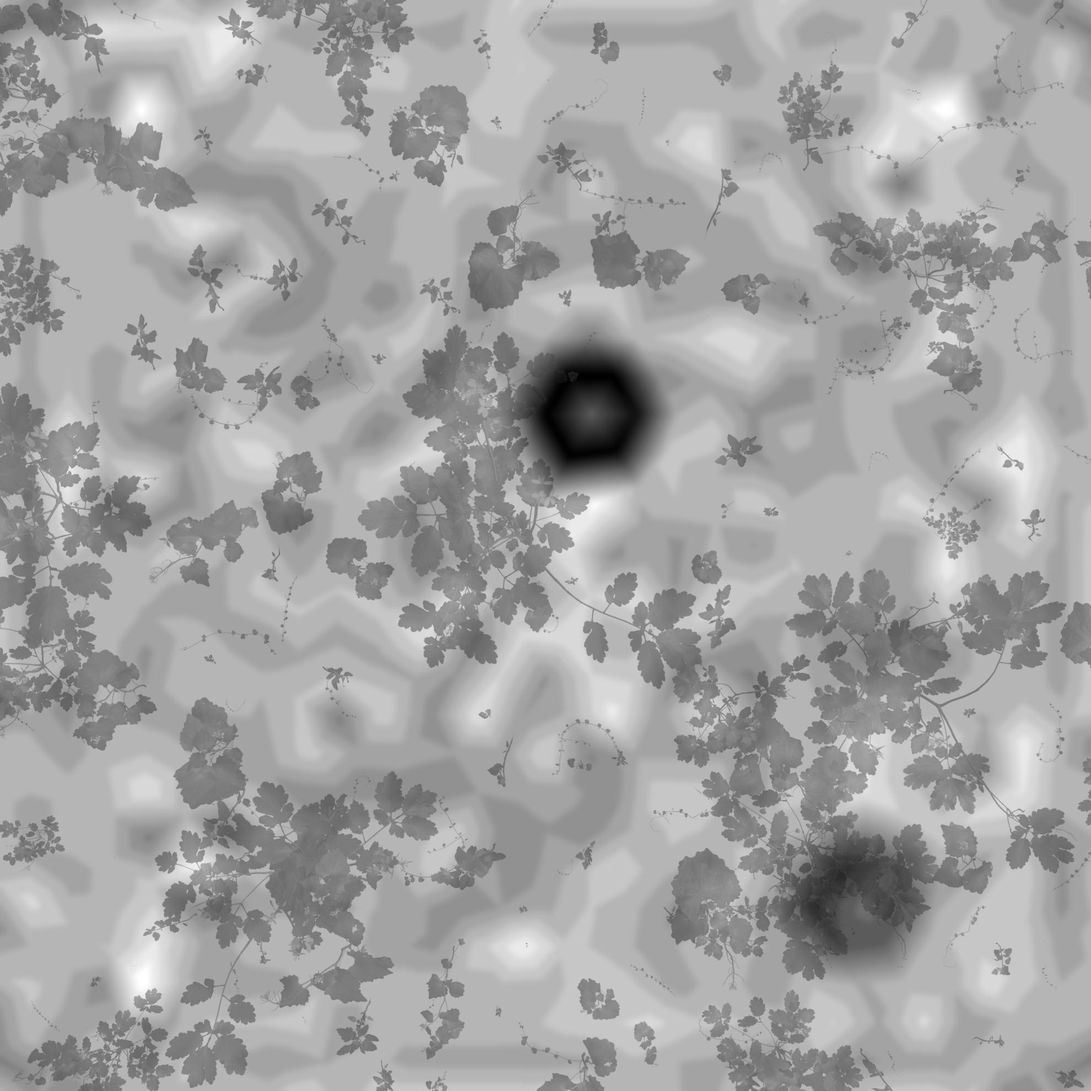landmine: (511, 333, 658, 491), (780, 828, 929, 978)
